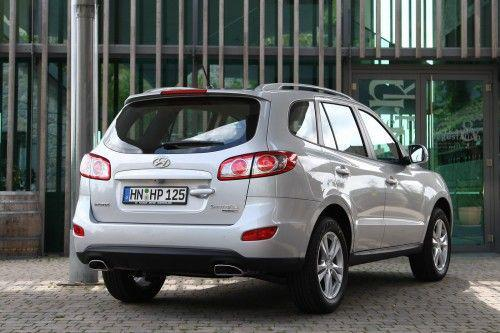Car: (56, 66, 468, 321)
